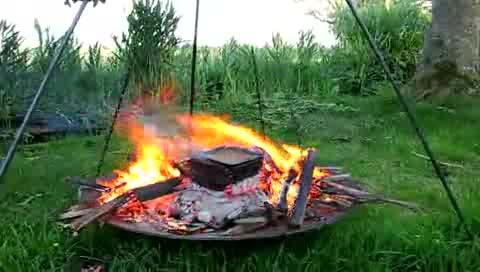fire: (97, 60, 331, 220)
